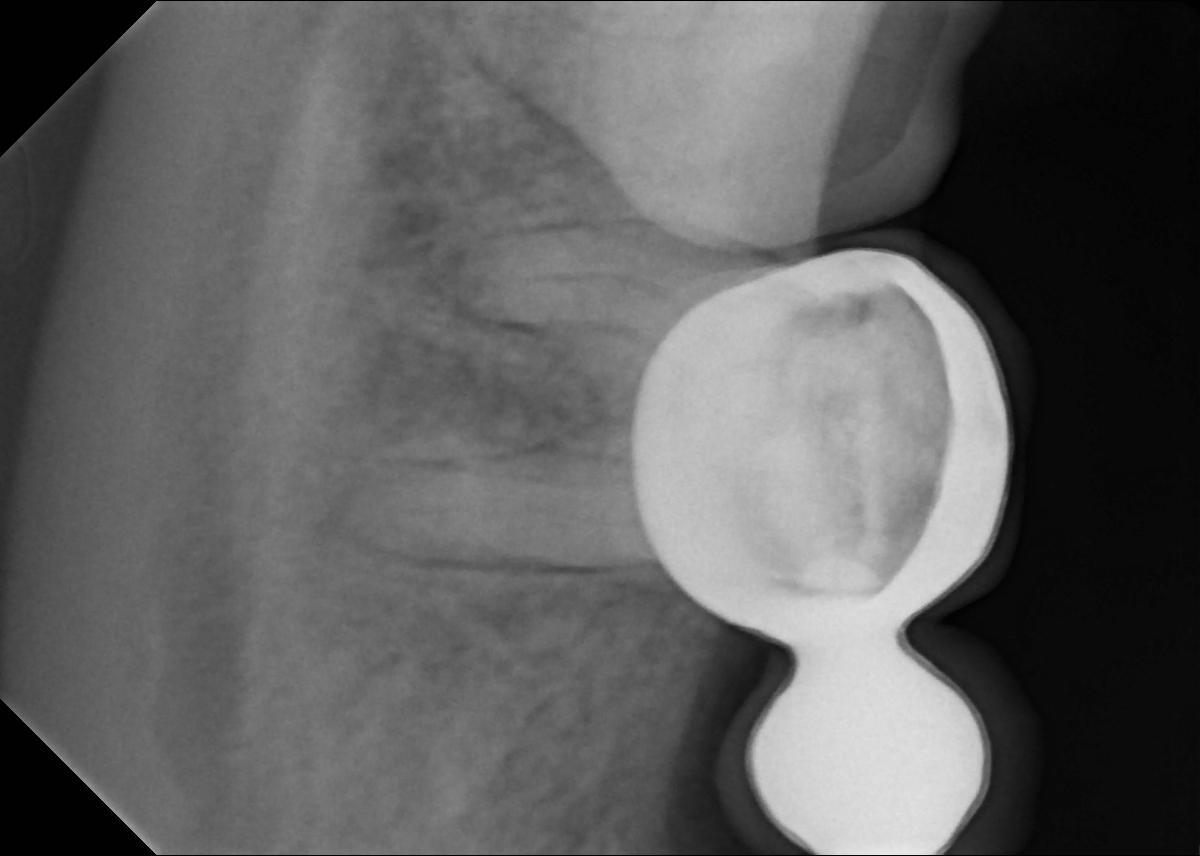Furcation Involvement: (421, 244, 538, 337)
